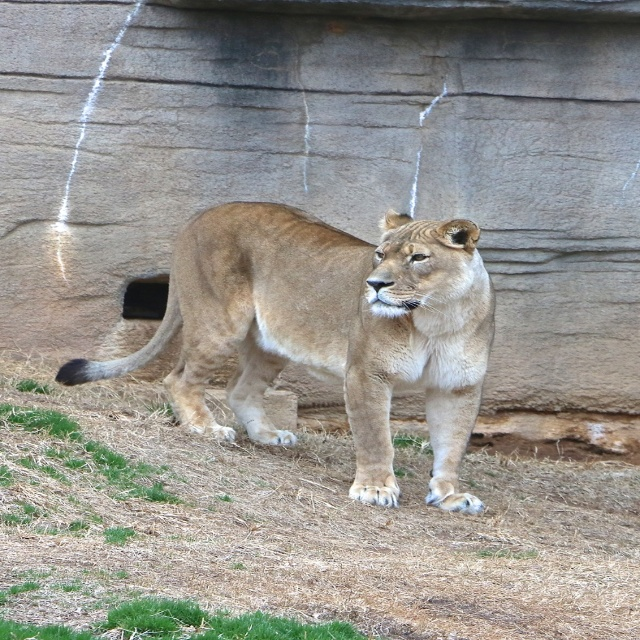Lion: (55, 201, 496, 515)
